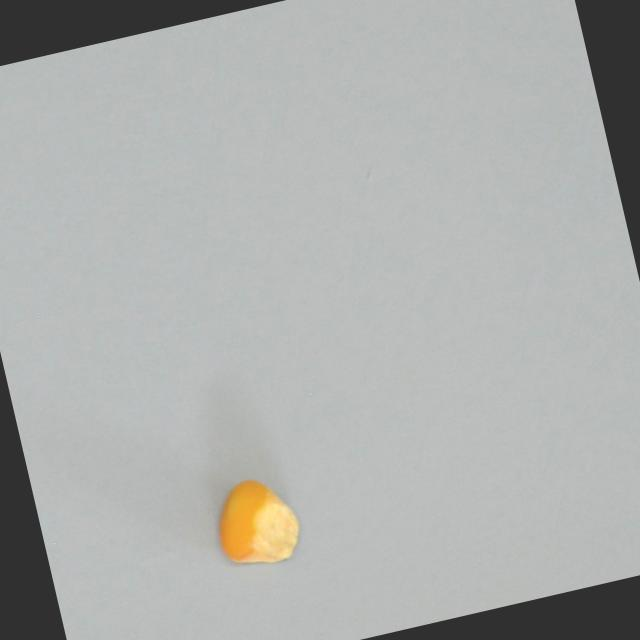entero: (206, 468, 307, 573)
